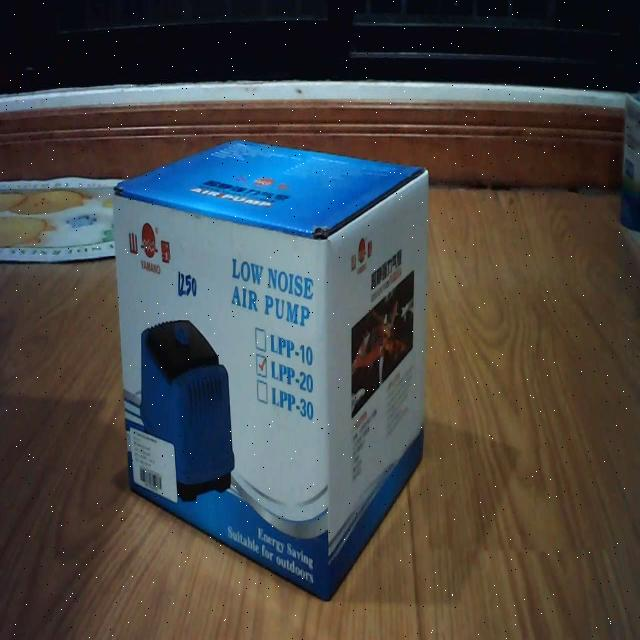YAMANO_LPP_20: (109, 114, 439, 616)
